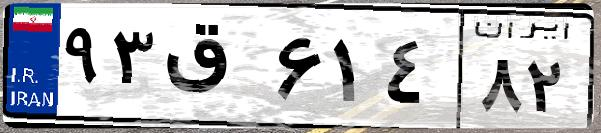1: (330, 28, 385, 110)
2: (525, 38, 570, 115)
3: (110, 28, 158, 98)
4: (385, 28, 445, 110)
6: (270, 28, 330, 110)
8: (475, 38, 525, 113)
9: (57, 26, 110, 100)
ق: (158, 20, 270, 120)
